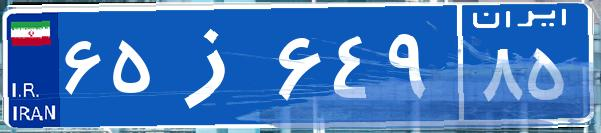4: (330, 28, 385, 110)
5: (110, 28, 158, 105), (525, 38, 570, 115)
6: (273, 28, 330, 110), (57, 26, 110, 107)
8: (475, 38, 525, 113)
9: (385, 28, 445, 110)
ز: (158, 15, 273, 115)
